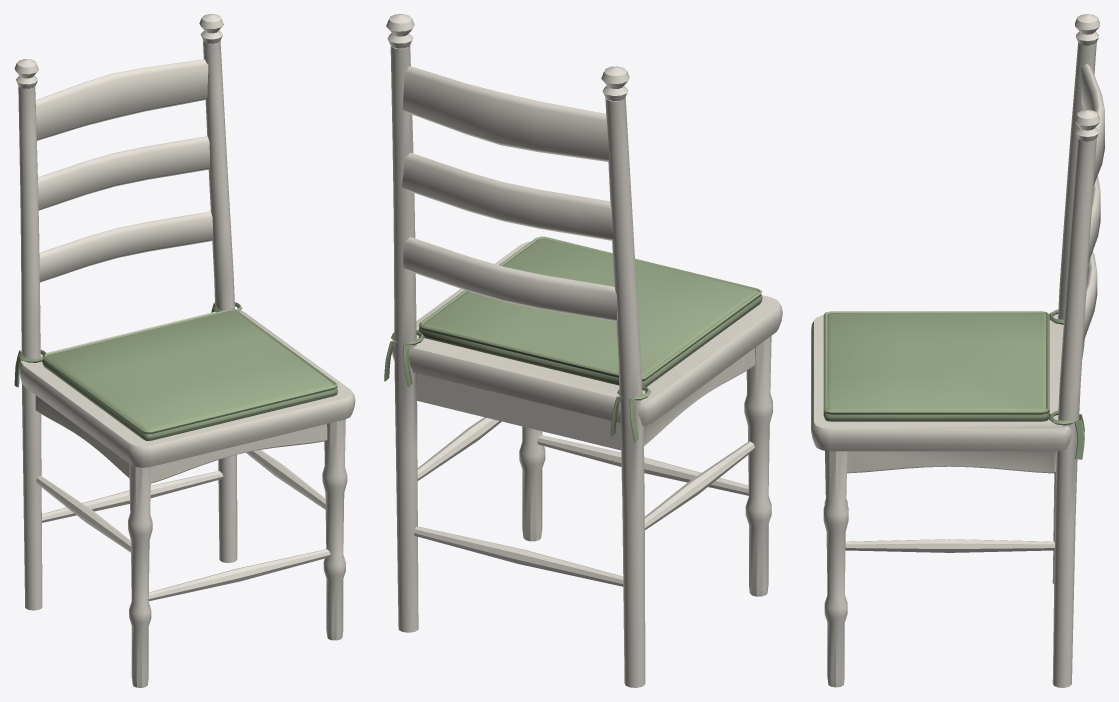
The model's file is diningChair.glb.
The picture shows the model from 3 angles, left to right: view 1: azimuth 30°, elevation 25°; view 2: azimuth 150°, elevation 25°; view 3: azimuth 270°, elevation 25°; orthographic projection. The views are drawn at different scales.
Parts seen in each view (by area): view 1: diningChair; view 2: diningChair; view 3: diningChair.
Part boxes in pixels (x1,y1,x2,y2): diningChair: (14,14,355,687); diningChair: (384,14,782,687); diningChair: (811,14,1104,687).
Size of the model in its own units: 0.44 by 1 by 0.4678.
